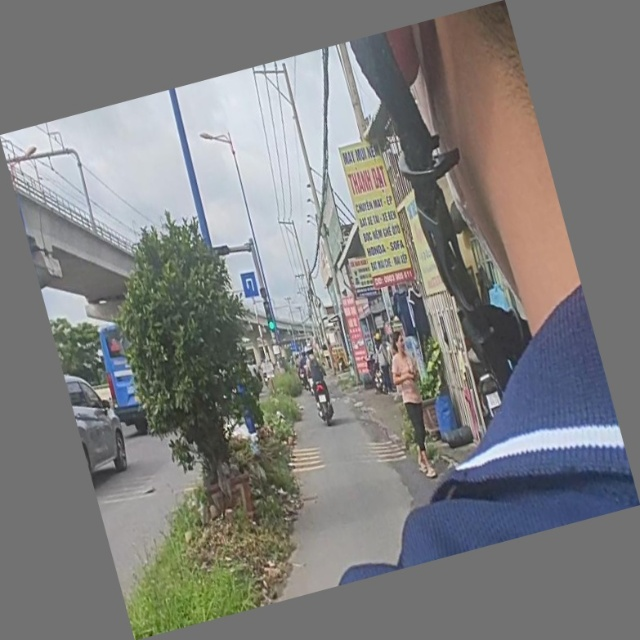I.409: (238, 267, 262, 300)
